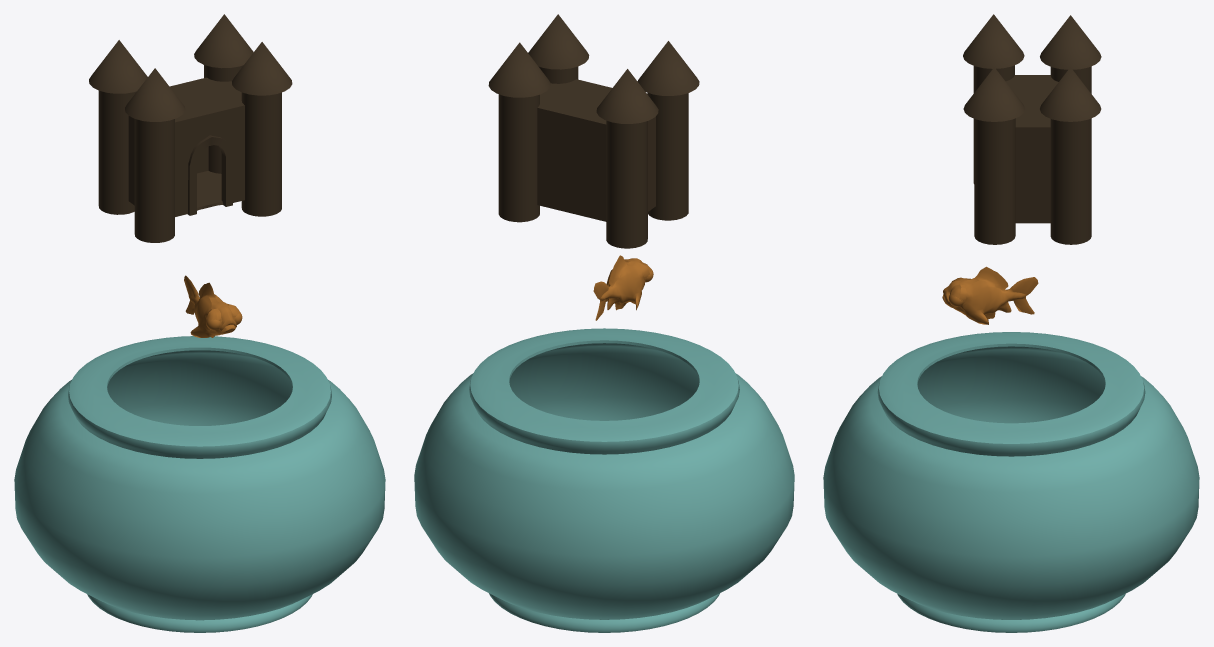
Rendered from export4better.obj.
3 views of the same model, side by side, from view 1: azimuth 30°, elevation 25°; view 2: azimuth 150°, elevation 25°; view 3: azimuth 270°, elevation 25° (orthographic). The views are drawn at different scales.
Visible parts, largest first — view 1: bowl, polySurface1, fish polySurface13; view 2: bowl, polySurface1, fish polySurface13; view 3: bowl, polySurface1, fish polySurface13.
Boxes of the visible parts, box(x1,y1,x2,y2) form: bowl: box(14, 336, 385, 632); polySurface1: box(89, 14, 292, 242); fish polySurface13: box(184, 275, 240, 337); bowl: box(414, 328, 794, 632); polySurface1: box(488, 14, 699, 248); fish polySurface13: box(593, 255, 651, 320); bowl: box(823, 332, 1199, 632); polySurface1: box(963, 14, 1101, 244); fish polySurface13: box(942, 266, 1038, 324).
Size of the model in its own units: 36.53 by 58.57 by 36.53.
